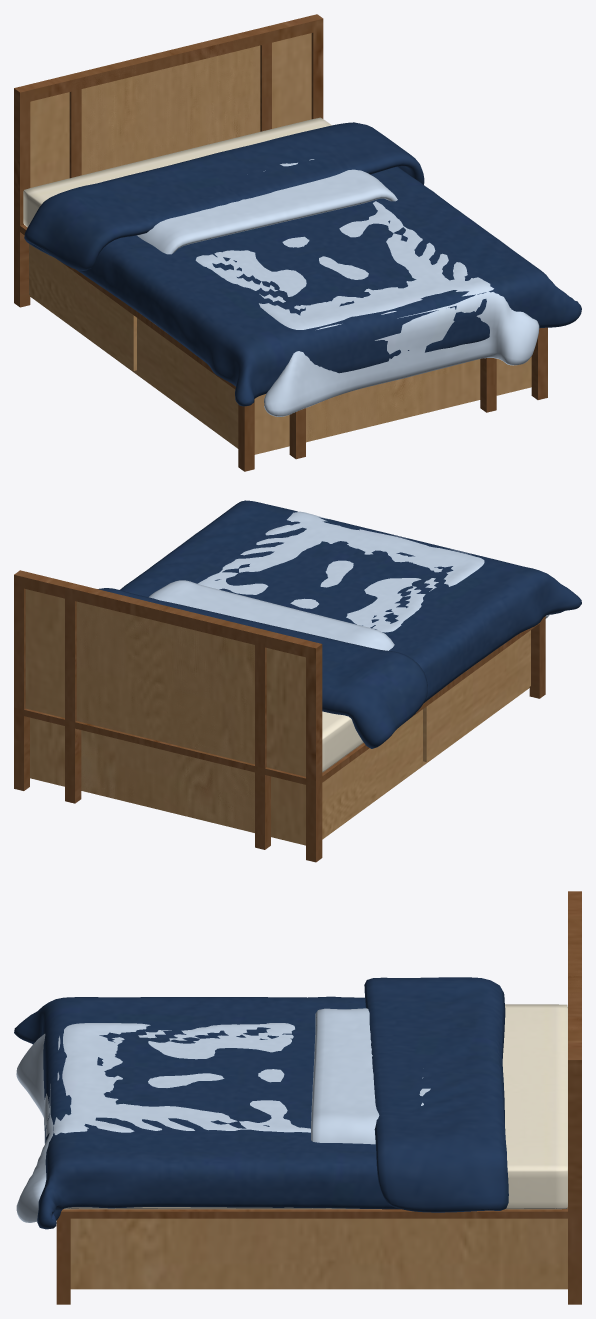
The model's file is bed-set.glb.
3 views of the same model, one above another, from view 1: azimuth 30°, elevation 25°; view 2: azimuth 150°, elevation 25°; view 3: azimuth 270°, elevation 25° (orthographic). The views are drawn at different scales.
Visible parts, largest first — view 1: Blanket12, BedFrame12, Blanket11, BedFrame11, BedFrame12_Drawer01, BedFrame12_Drawer02, Mattress12, Mattress11; view 2: BedFrame12, Blanket12, BedFrame11, Blanket11, BedFrame12_Drawer02, BedFrame12_Drawer01, Mattress12; view 3: Blanket12, BedFrame12, Blanket11, Mattress12, Mattress11.
Part boxes in pixels (x1,y1,x2,y2): Blanket12: [24, 122, 581, 406]; BedFrame12: [14, 14, 547, 471]; Blanket11: [137, 159, 539, 416]; BedFrame11: [67, 27, 496, 459]; BedFrame12_Drawer01: [29, 244, 136, 370]; BedFrame12_Drawer02: [137, 318, 238, 447]; Mattress12: [23, 117, 331, 227]; Mattress11: [108, 138, 246, 170]; BedFrame12: [14, 570, 545, 862]; Blanket12: [98, 500, 581, 748]; BedFrame11: [65, 583, 270, 849]; Blanket11: [149, 511, 549, 650]; BedFrame12_Drawer02: [423, 630, 530, 762]; BedFrame12_Drawer01: [322, 709, 422, 838]; Mattress12: [322, 711, 363, 772]; Blanket12: [14, 977, 508, 1229]; BedFrame12: [56, 891, 581, 1304]; Blanket11: [16, 1008, 430, 1222]; Mattress12: [64, 1004, 567, 1209]; Mattress11: [504, 1050, 567, 1122].
Size of the model in its own units: 1.91 by 1.15 by 2.27.
3 materials, 3 textured.
